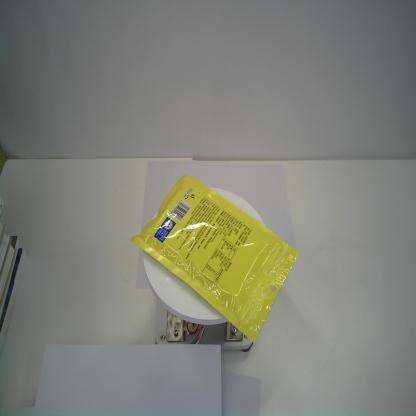Dried Fruit: (130, 172, 300, 346)
